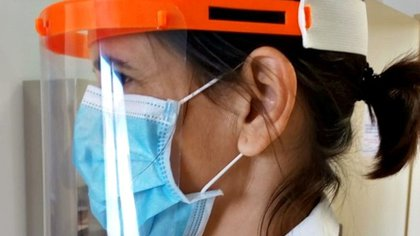with_mask: (59, 3, 304, 236)
